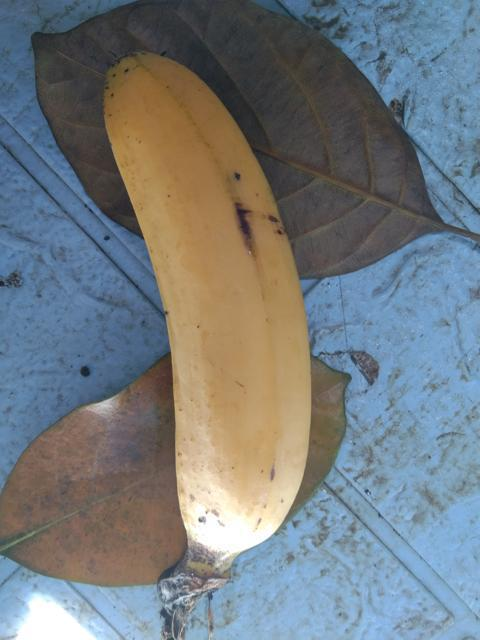freshripe: (87, 53, 360, 600)
